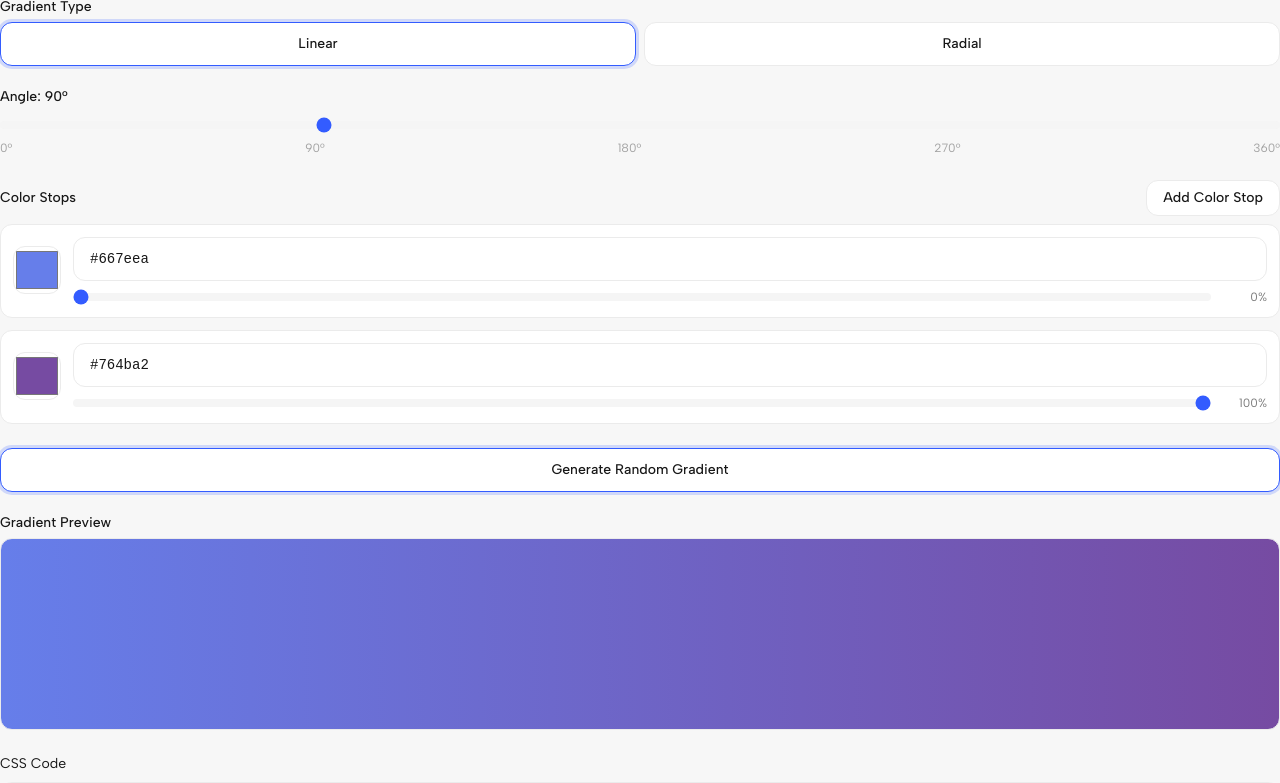
Scenario: GradientGeneratorTool › adds a new color stop when Add Color Stop is clicked
Click the button "Add Color Stop". click: (1213, 198)
box: left=1146, top=180, right=1279, bottom=216
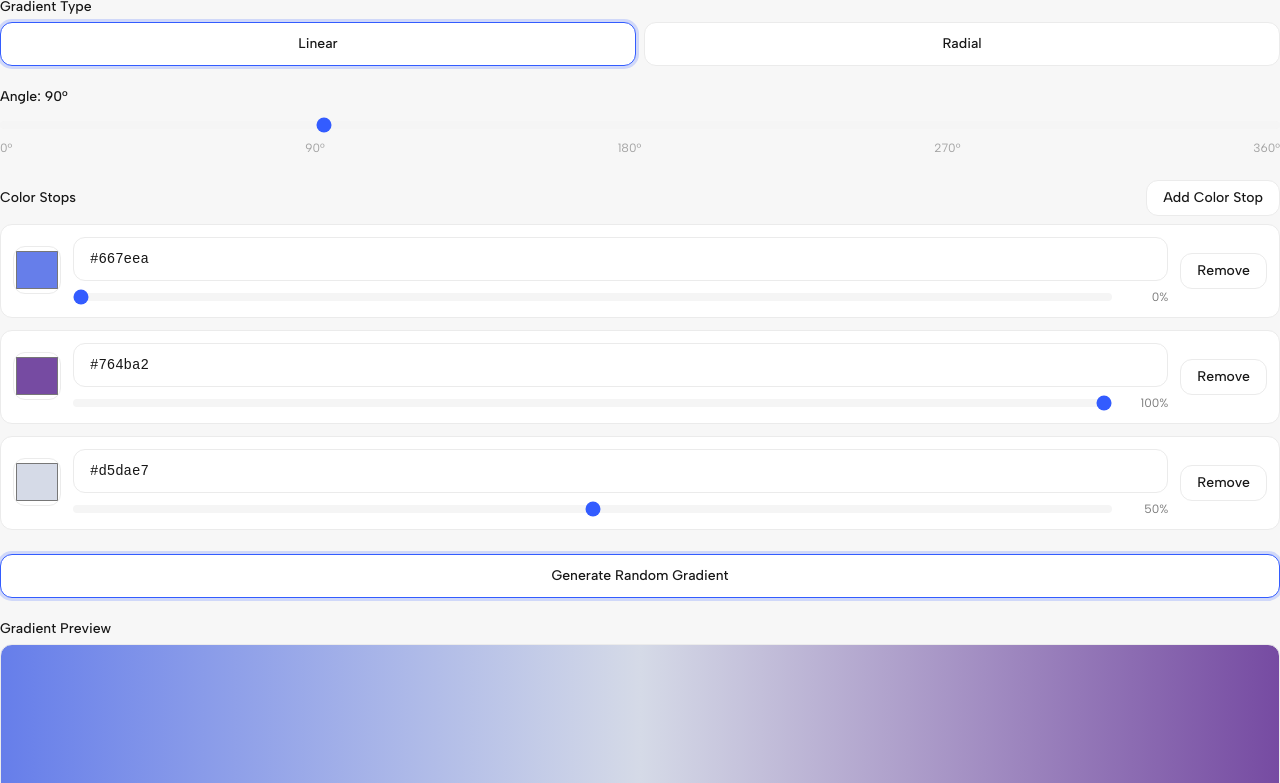
Result: the number of colour fields is 3 at left=13, top=246, right=61, bottom=294; left=13, top=352, right=61, bottom=400; left=13, top=458, right=61, bottom=506
